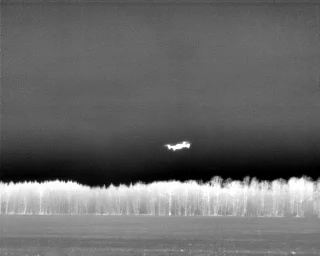DRONE: (160, 136, 196, 156)
